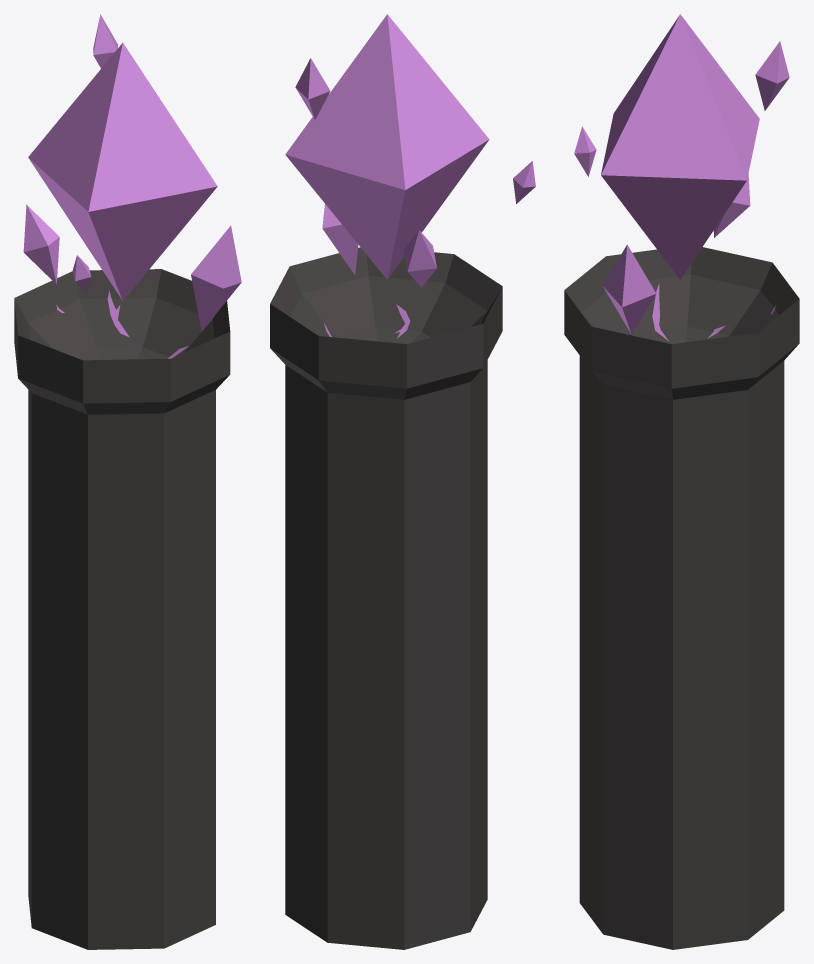
File: crystal_post.obj
3 views of the same model, side by side, from view 1: azimuth 30°, elevation 25°; view 2: azimuth 150°, elevation 25°; view 3: azimuth 270°, elevation 25° (orthographic). The views are drawn at different scales.
Parts seen in each view (by area): view 1: Cylinder.043_Cylinder.030; view 2: Cylinder.043_Cylinder.030; view 3: Cylinder.043_Cylinder.030.
Boxes of the visible parts, x1,y1,x2,y2 form: Cylinder.043_Cylinder.030: (14, 14, 241, 949); Cylinder.043_Cylinder.030: (270, 14, 535, 949); Cylinder.043_Cylinder.030: (564, 14, 799, 949).
Size of the model in its own units: 0.8988 by 3.76 by 0.8988.
Materials: 1 (1 with a texture image).
